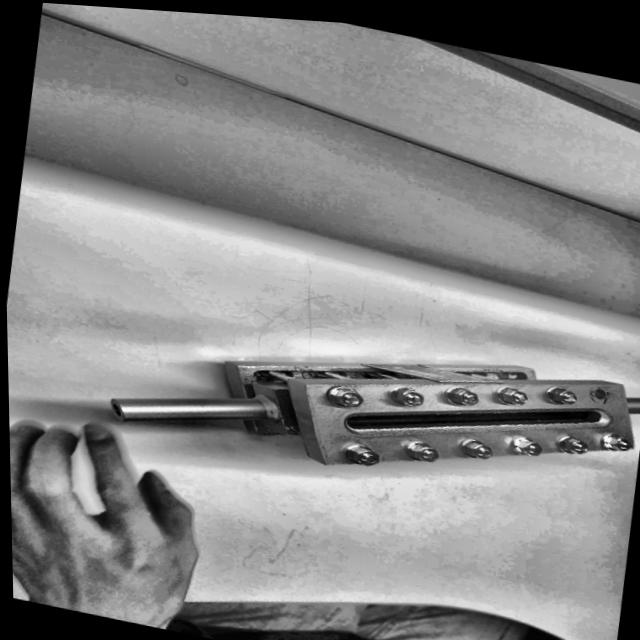ShuiWeiQi_11: (91, 255, 640, 544)
